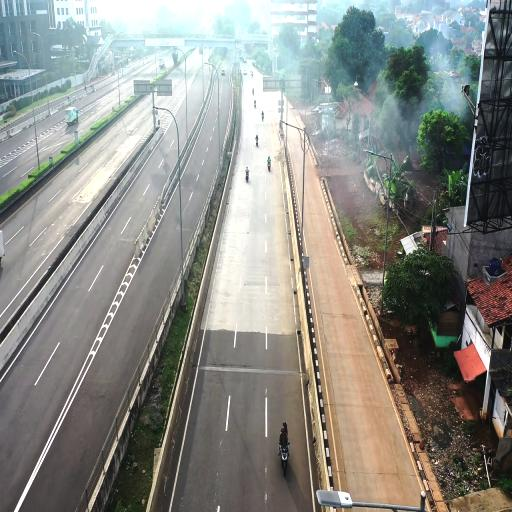vehicle: (278, 422, 290, 477)
